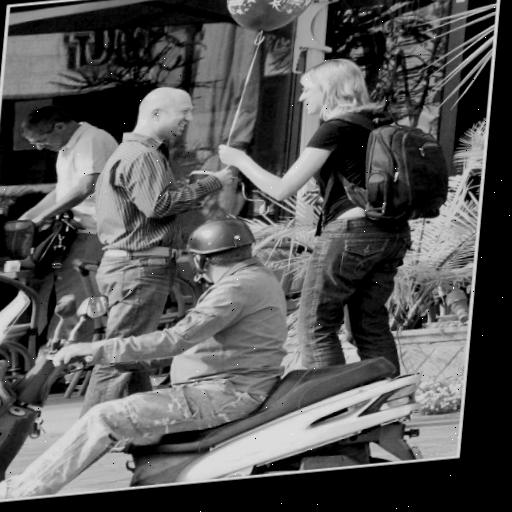balloon: (223, 0, 318, 37)
